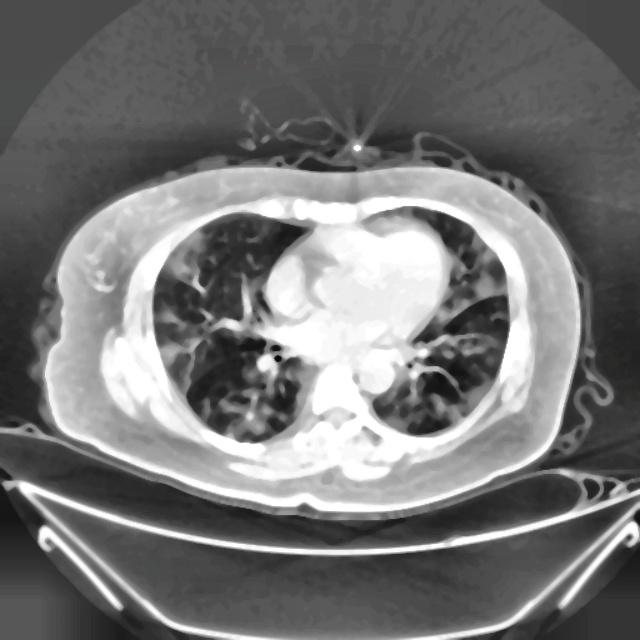covid: (30, 129, 591, 522)
